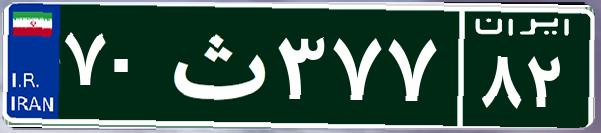0: (110, 28, 158, 105)
2: (525, 38, 570, 115)
3: (273, 28, 330, 110)
7: (385, 28, 445, 110), (330, 28, 385, 110), (57, 26, 110, 107)
8: (475, 38, 525, 113)
ث: (158, 15, 273, 115)
